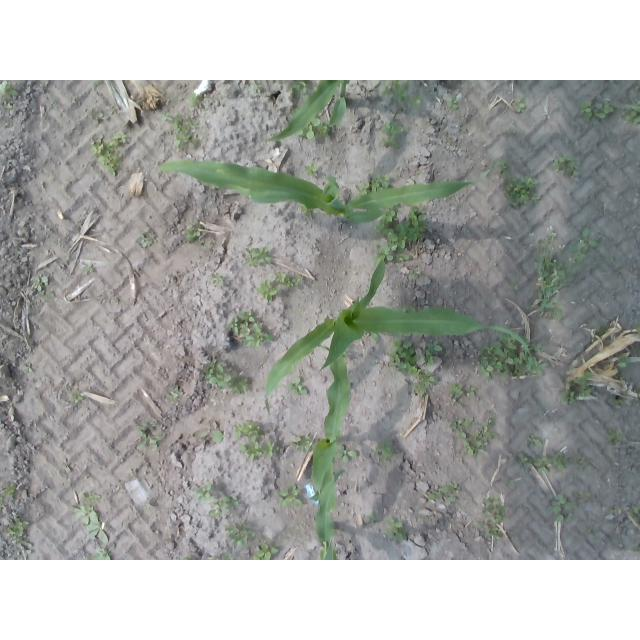Maize: (260, 260, 536, 411), (157, 161, 492, 224), (315, 344, 354, 561), (265, 80, 348, 144)
Weeds: (477, 333, 549, 382), (534, 225, 570, 322), (374, 202, 426, 264), (90, 131, 130, 177), (158, 112, 202, 152), (227, 310, 273, 348), (569, 225, 599, 275), (74, 504, 109, 544), (388, 338, 421, 376), (290, 107, 330, 138), (505, 176, 542, 209), (465, 417, 496, 456), (560, 371, 593, 406), (518, 452, 570, 472), (202, 358, 230, 391), (354, 172, 392, 196), (137, 422, 167, 451), (547, 494, 576, 523), (580, 100, 614, 123), (224, 524, 256, 548), (209, 495, 239, 519), (380, 120, 403, 151), (3, 517, 29, 543), (483, 497, 508, 524), (427, 484, 462, 503), (381, 81, 409, 104), (413, 368, 436, 396), (232, 421, 265, 440), (244, 245, 272, 267), (552, 157, 581, 178), (277, 485, 303, 508), (256, 279, 281, 302), (240, 437, 263, 462), (30, 275, 54, 298), (449, 417, 473, 440), (274, 271, 304, 289), (424, 340, 444, 365), (192, 428, 224, 443), (250, 544, 278, 561), (385, 519, 407, 540), (623, 98, 640, 125), (332, 445, 357, 463), (372, 442, 393, 463), (194, 483, 215, 503), (288, 377, 309, 396), (448, 383, 464, 406), (289, 436, 312, 452), (231, 375, 250, 393), (1, 80, 20, 98), (606, 428, 626, 445), (86, 548, 111, 561), (290, 80, 310, 96), (496, 158, 511, 179), (165, 384, 184, 400), (263, 442, 280, 459), (188, 92, 205, 108), (511, 95, 525, 113), (407, 93, 422, 109), (616, 353, 631, 369), (627, 505, 640, 522), (487, 525, 504, 538), (300, 203, 313, 220), (3, 483, 18, 497), (575, 454, 589, 469), (136, 235, 152, 248), (186, 228, 202, 241), (304, 161, 318, 175), (446, 95, 458, 110), (365, 328, 379, 340), (527, 437, 543, 447), (86, 493, 100, 504), (91, 111, 102, 125), (211, 275, 223, 285), (575, 491, 590, 499), (611, 397, 623, 406), (23, 364, 34, 373), (3, 102, 14, 111), (223, 553, 236, 560), (595, 326, 605, 335), (467, 387, 475, 398), (474, 520, 485, 528), (252, 85, 263, 93), (83, 266, 93, 274), (611, 506, 621, 514), (412, 268, 420, 277), (369, 513, 376, 523), (508, 125, 516, 133), (75, 396, 84, 403), (633, 545, 640, 553), (179, 556, 190, 561), (513, 285, 520, 292), (506, 479, 514, 485), (341, 351, 347, 358), (635, 324, 640, 332), (0, 497, 4, 507)
